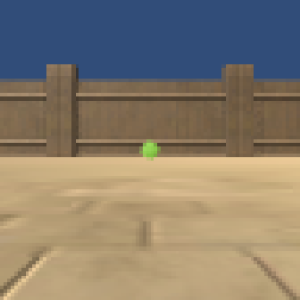goodGoal: (139, 141, 161, 159)
